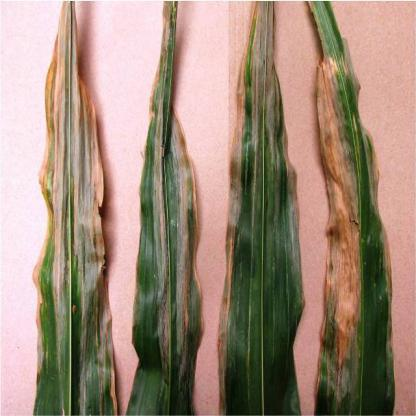corn leaf blight: (307, 2, 406, 415), (27, 2, 120, 415), (216, 1, 305, 415), (125, 1, 208, 415)
